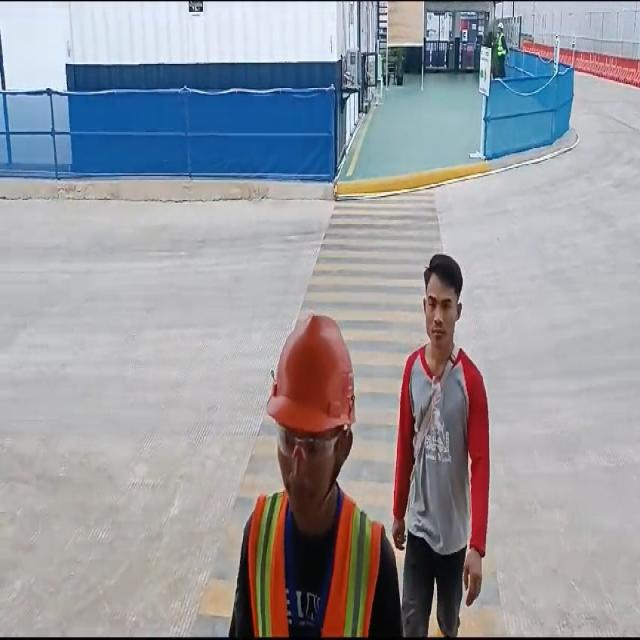goggles: (266, 427, 347, 463)
helmet: (266, 316, 356, 437)
safety_vest: (244, 490, 386, 640)
